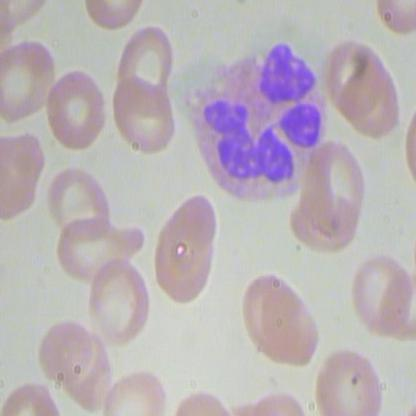RBC: (237, 265, 321, 368), (154, 187, 224, 302), (37, 220, 146, 282), (40, 63, 108, 152), (42, 167, 118, 246), (343, 251, 411, 337), (321, 31, 386, 120), (115, 22, 177, 114), (84, 260, 149, 343), (29, 319, 95, 386)
WBC: (182, 37, 330, 205)
